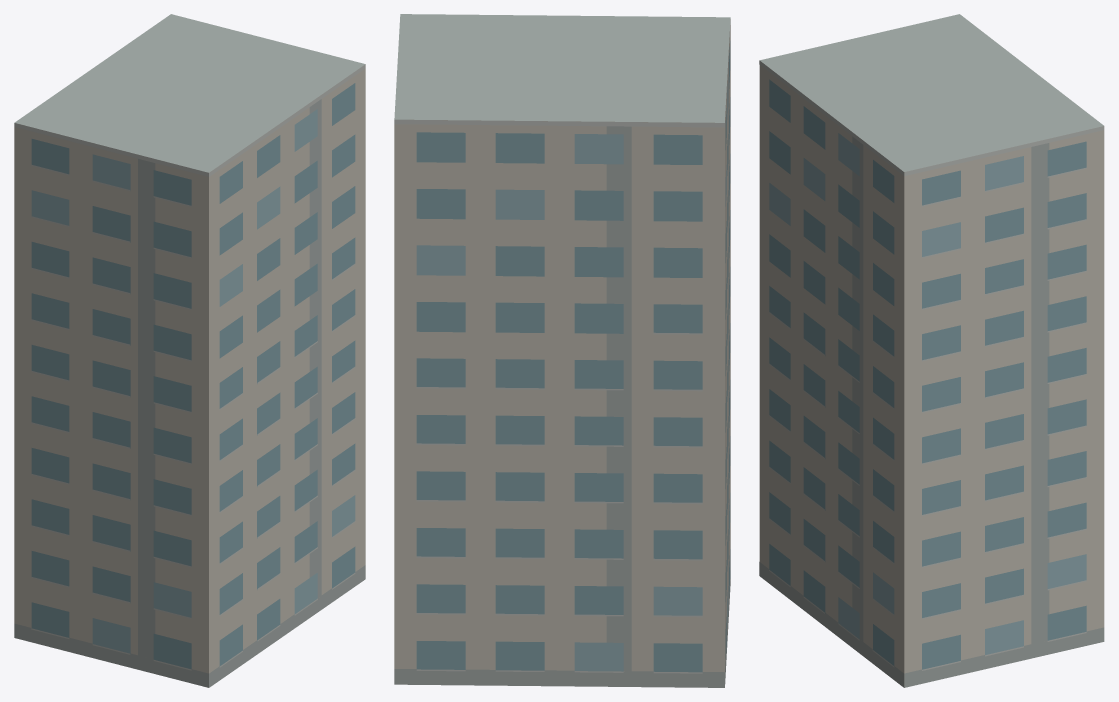
Rendered from residential-84372d40-2d40-4176-bd36-e483e99d7d73.glb.
The picture shows the model from 3 angles, left to right: view 1: azimuth 30°, elevation 25°; view 2: azimuth 150°, elevation 25°; view 3: azimuth 270°, elevation 25°; orthographic projection. The views are drawn at different scales.
Parts seen in each view (by area): view 1: residential-84372d40-2d40-4176-bd36-e483e99d7d73.tmp; view 2: residential-84372d40-2d40-4176-bd36-e483e99d7d73.tmp; view 3: residential-84372d40-2d40-4176-bd36-e483e99d7d73.tmp.
Part boxes in pixels (<box>): residential-84372d40-2d40-4176-bd36-e483e99d7d73.tmp: <box>14,14,365,687</box>; residential-84372d40-2d40-4176-bd36-e483e99d7d73.tmp: <box>394,14,730,687</box>; residential-84372d40-2d40-4176-bd36-e483e99d7d73.tmp: <box>759,14,1104,687</box>.
Size of the model in its own units: 19.73 by 30 by 18.19.
